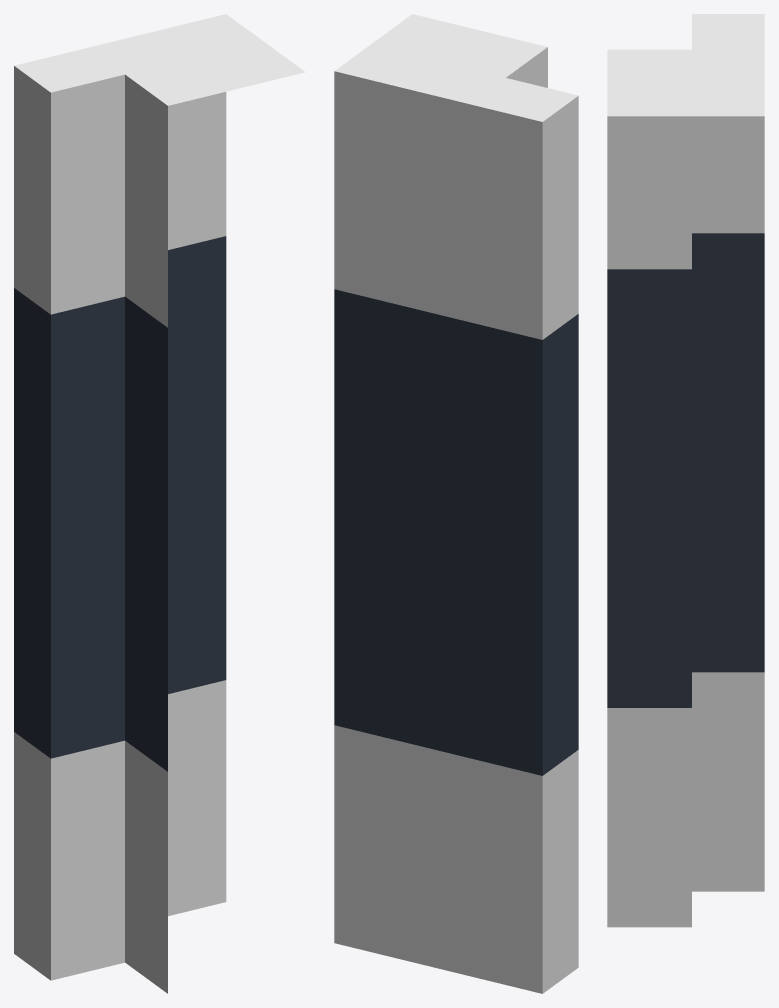
Rendered from SM_OffCrossTOBR.fbx.
3 renders of one model, left to right at view 1: azimuth 30°, elevation 25°; view 2: azimuth 150°, elevation 25°; view 3: azimuth 270°, elevation 25°, orthographic.
Visible parts, largest first — view 1: SM_TCrossOBR; view 2: SM_TCrossOBR; view 3: SM_TCrossOBR.
Part boxes in pixels (x1=…): SM_TCrossOBR: x1=14, y1=14, x2=305, y2=993; SM_TCrossOBR: x1=334, y1=14, x2=578, y2=993; SM_TCrossOBR: x1=607, y1=14, x2=764, y2=927.
Size of the model in its own units: 100 by 400 by 65.
